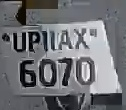0: (36, 57, 60, 92), (75, 56, 97, 90)
1: (41, 30, 50, 54), (49, 30, 58, 54)
6: (17, 58, 38, 91)
7: (57, 57, 73, 91)
A: (59, 30, 74, 53)
P: (27, 31, 41, 57)
U: (11, 31, 27, 56)
X: (75, 28, 90, 52)
